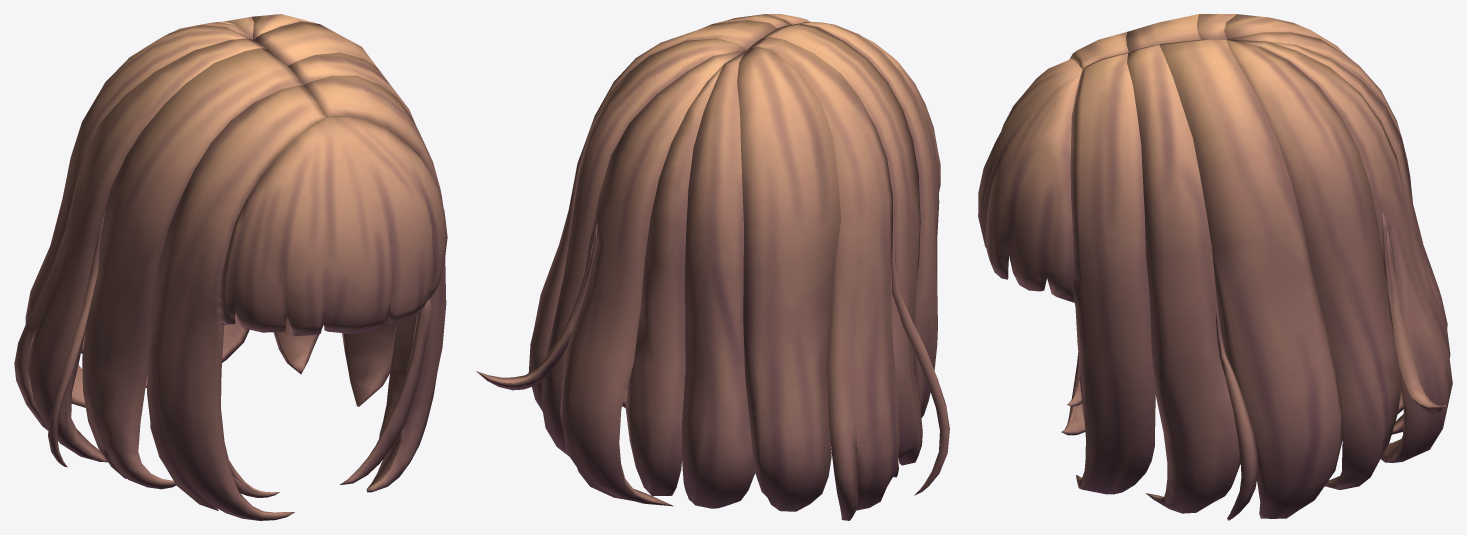
The model's file is mh_culturalibre_hair_18.glb.
The picture shows the model from 3 angles, left to right: view 1: azimuth 30°, elevation 25°; view 2: azimuth 150°, elevation 25°; view 3: azimuth 270°, elevation 25°; orthographic projection. The views are drawn at different scales.
Visible parts, largest first — view 1: mh_culturalibre_hair_18; view 2: mh_culturalibre_hair_18; view 3: mh_culturalibre_hair_18.
Part boxes in pixels (<box>): mh_culturalibre_hair_18: <box>14,14,447,520</box>; mh_culturalibre_hair_18: <box>476,14,949,520</box>; mh_culturalibre_hair_18: <box>978,14,1452,520</box>.
Bounding box in the file's own units: 0.2634 × 0.2666 × 0.2676.
1 material, 1 textured.
